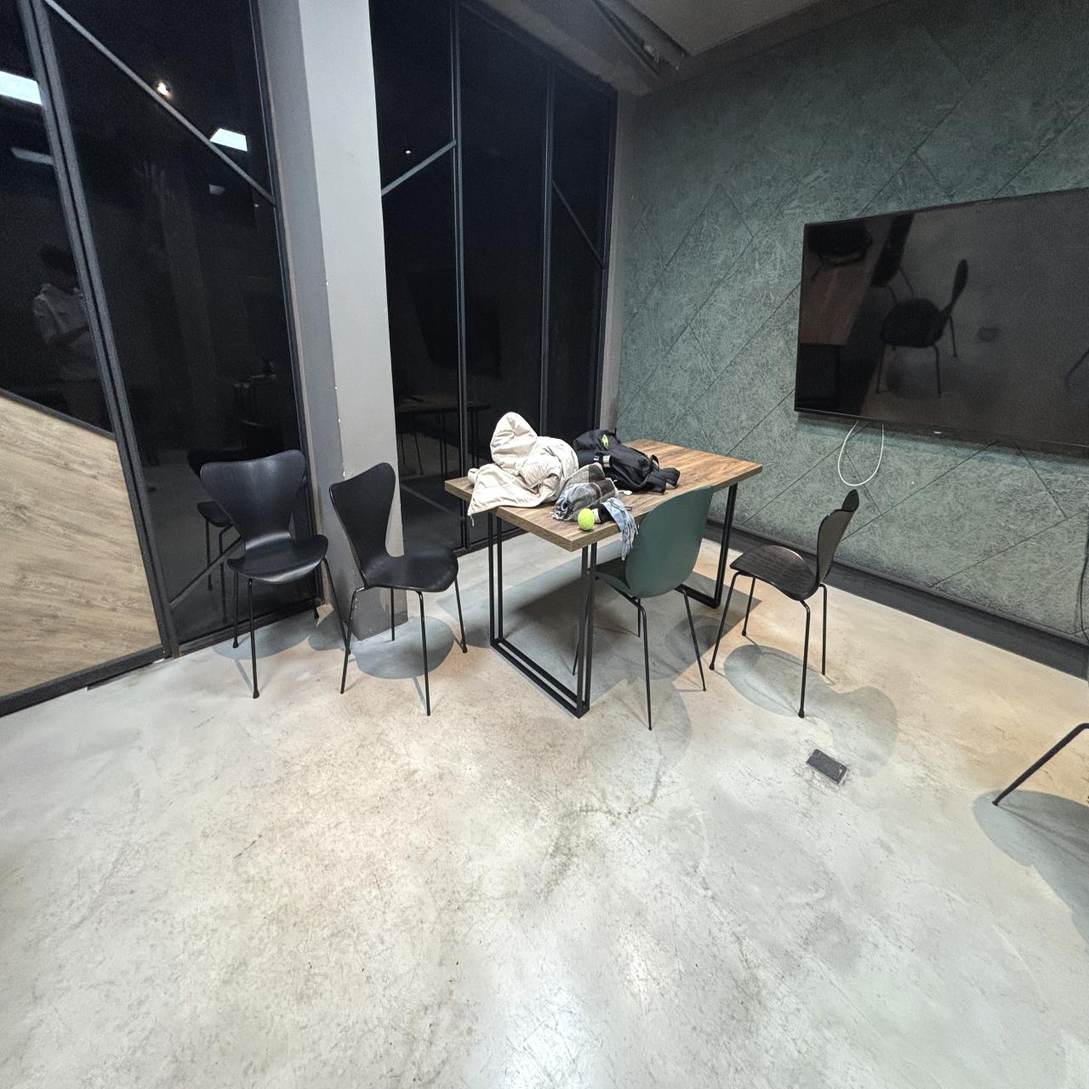tennisball: (578, 509, 594, 530)
